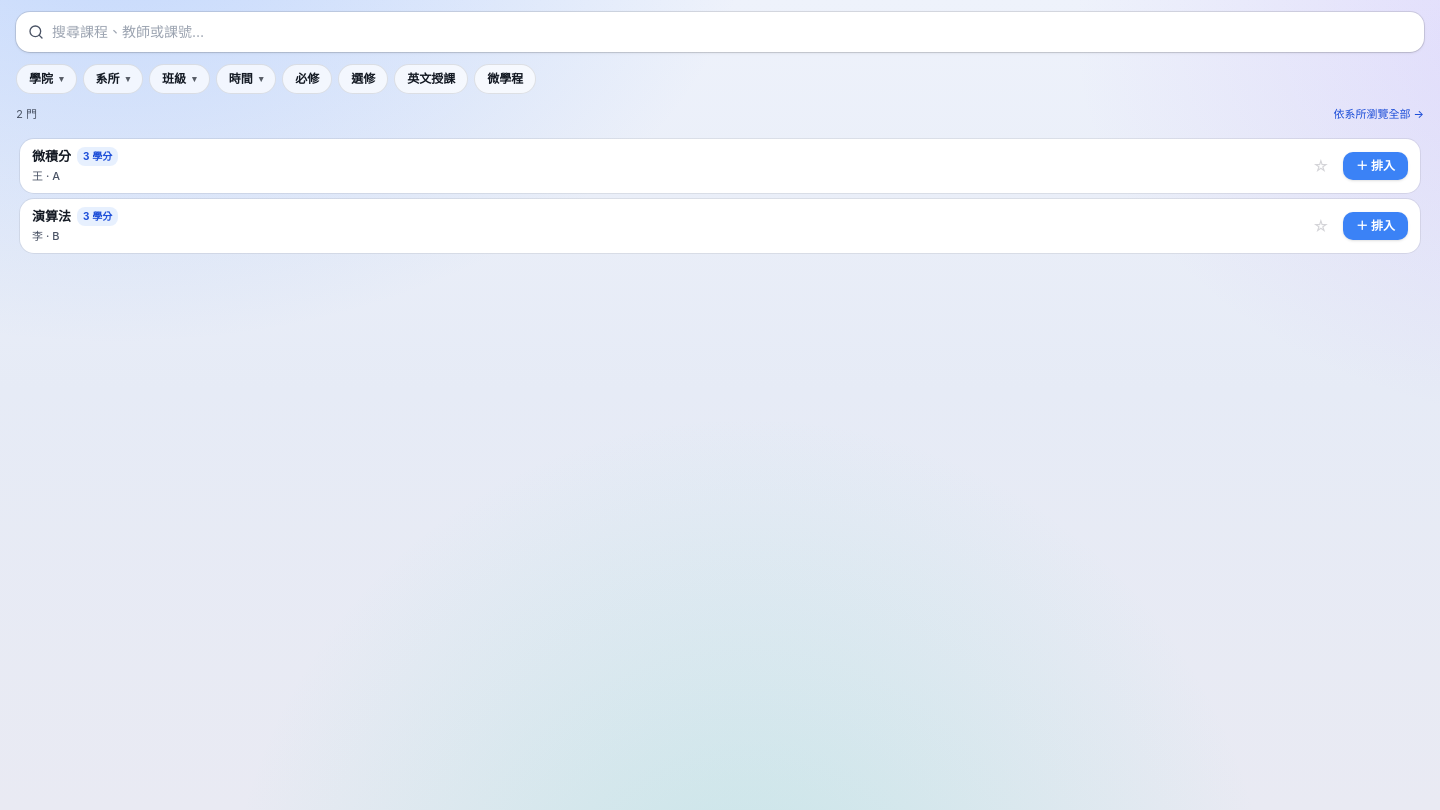
CourseLibrary › filters results live by search query
Expected: the text "微積分" is shown, [32,146,71,166]
Type "演算" into the field labelled "搜尋課程" at (720, 32), box [16,12,1424,52]
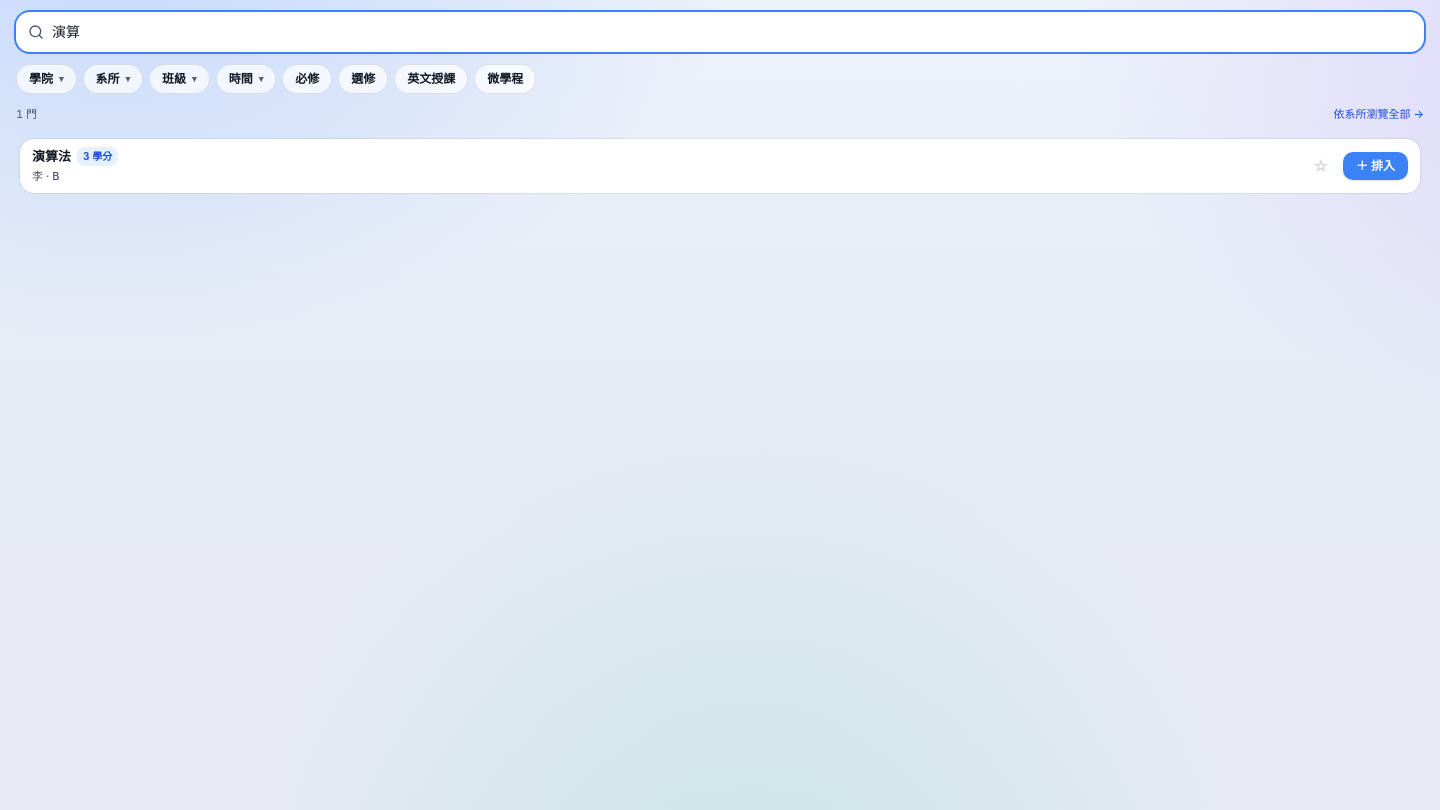
Expected: the text "演算法" is shown, [32,146,71,166]
Expected: the button "微積分" is gone
